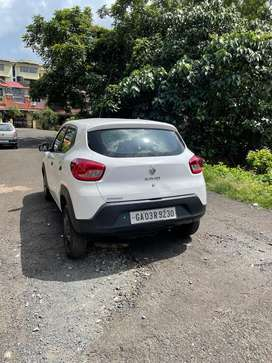GA03R9230: (129, 207, 177, 224)
